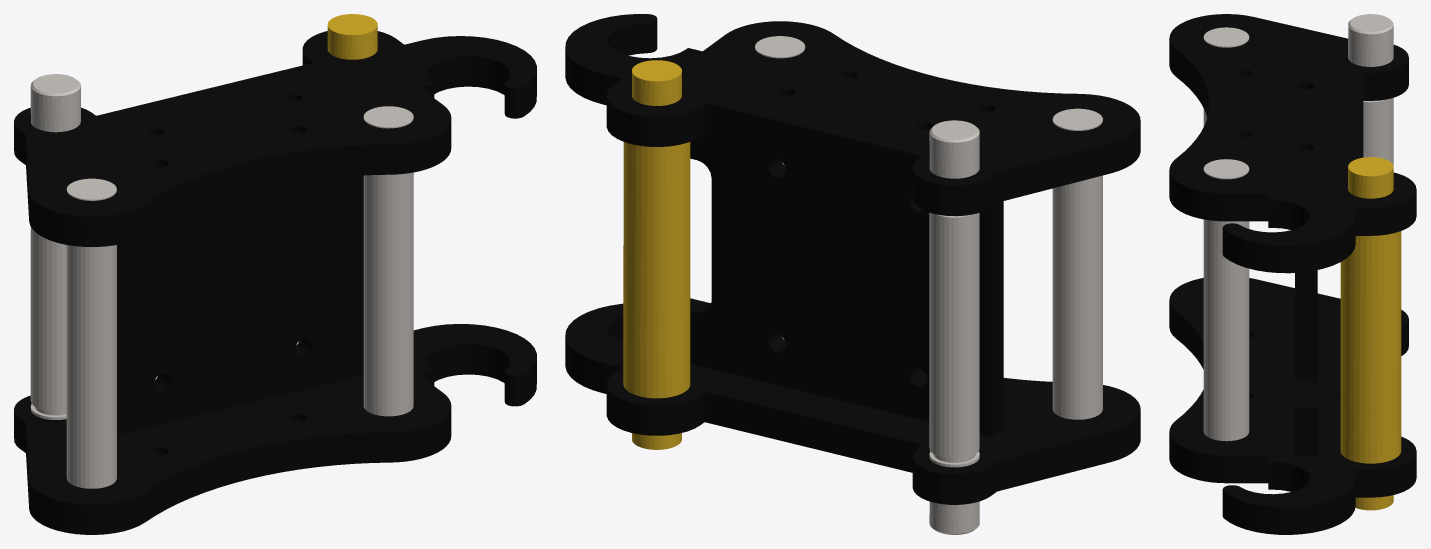
Rendered from tool_body_visuals_Mesh.obj.
The picture shows the model from 3 angles, left to right: view 1: azimuth 30°, elevation 25°; view 2: azimuth 150°, elevation 25°; view 3: azimuth 270°, elevation 25°; orthographic projection. The views are drawn at different scales.
Bounding box in the file's own units: 0.0721 × 0.052 × 0.0325.
